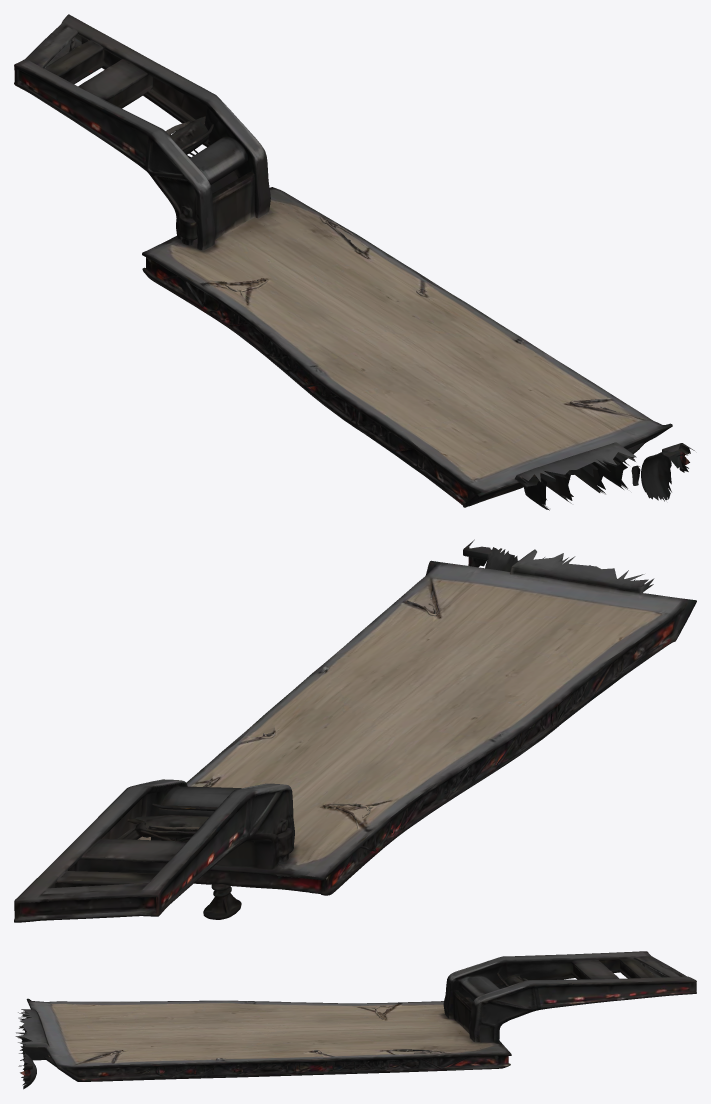
The model's file is trailer.glb.
3 views of the same model, one above another, from view 1: azimuth 30°, elevation 25°; view 2: azimuth 150°, elevation 25°; view 3: azimuth 270°, elevation 25° (orthographic). The views are drawn at different scales.
Parts seen in each view (by area): view 1: deck, gooseneck; view 2: deck, gooseneck; view 3: deck, gooseneck.
Boxes of the visible parts, x1=… form: deck: x1=144, y1=174, x2=694, y2=510; gooseneck: x1=14, y1=14, x2=317, y2=276; deck: x1=186, y1=539, x2=696, y2=894; gooseneck: x1=14, y1=779, x2=329, y2=922; deck: x1=15, y1=970, x2=465, y2=1089; gooseneck: x1=450, y1=951, x2=696, y2=1070.
Bounding box in the file's own units: 2.52 × 1.48 × 10.53.
1 material, 1 textured.
